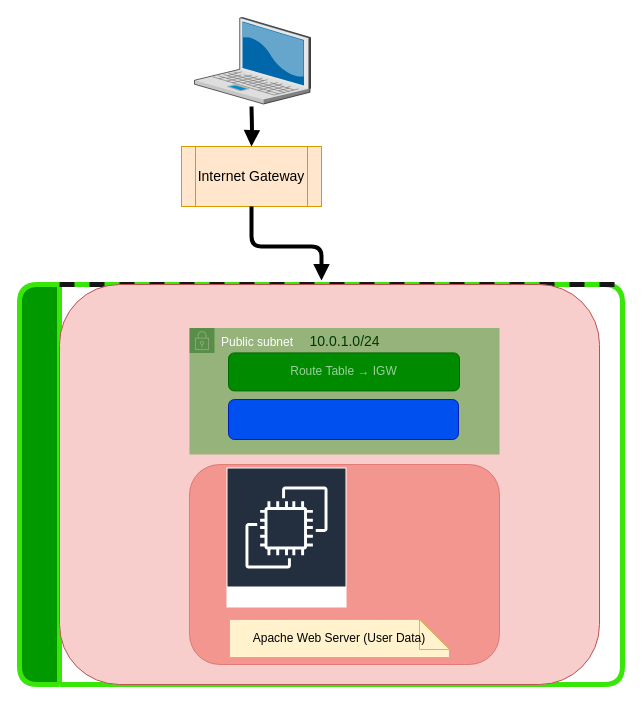
The diagram is 642 pixels wide and 704 high, and some of its shapes have lost their labels. Each missing label, with the box of its shape:
Amazon EC2 (t2.micro): (226, 466, 346, 608)
security Group: Allow HTTP, SSH: (228, 398, 458, 440)
VPC 10.0.0.0/16: (16, 282, 624, 686)
